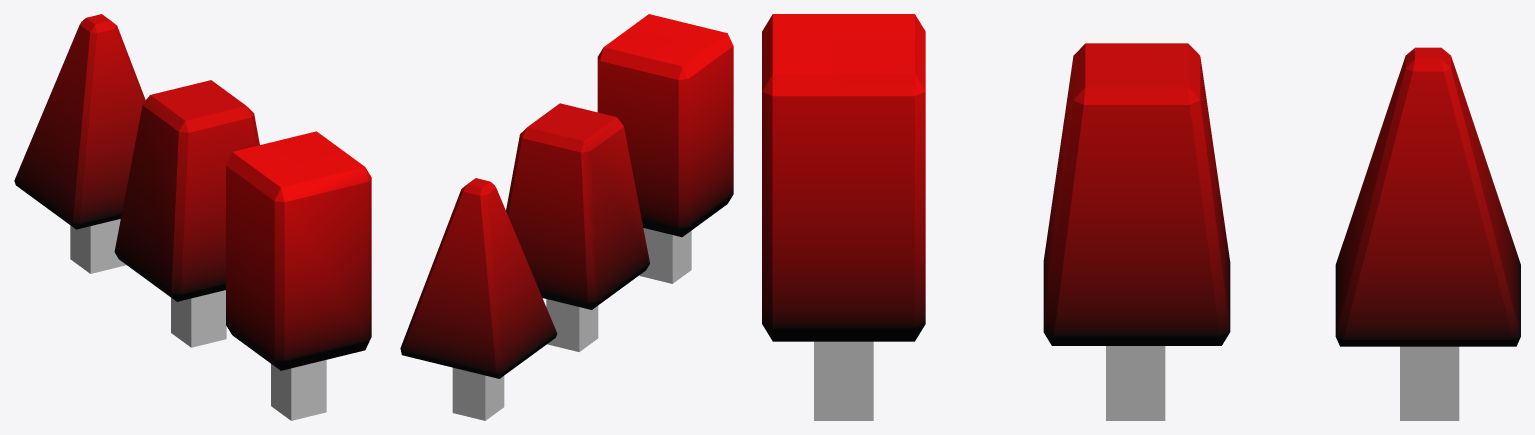
The model's file is TREES.fbx.
3 renders of one model, left to right at view 1: azimuth 30°, elevation 25°; view 2: azimuth 150°, elevation 25°; view 3: azimuth 270°, elevation 25°, orthographic. The views are drawn at different scales.
Parts seen in each view (by area): view 1: Cube.001, Cube.002, Cube.005, Cube, Cube.003, Cube.004; view 2: Cube.001, Cube.002, Cube.005, Cube.004, Cube, Cube.003; view 3: Cube.001, Cube.002, Cube.005, Cube, Cube.003, Cube.004.
Boxes of the visible parts, box(x1,y1,x2,y2) form: Cube.001: box(226, 131, 371, 370); Cube.002: box(114, 80, 259, 301); Cube.005: box(14, 14, 145, 229); Cube: box(271, 360, 326, 420); Cube.003: box(171, 290, 226, 347); Cube.004: box(70, 219, 125, 273); Cube.001: box(597, 14, 733, 237); Cube.002: box(506, 103, 649, 309); Cube.005: box(400, 178, 557, 378); Cube.004: box(452, 367, 504, 420); Cube: box(639, 228, 691, 283); Cube.003: box(546, 299, 598, 351); Cube.001: box(762, 14, 925, 341); Cube.002: box(1043, 43, 1230, 345); Cube.005: box(1335, 47, 1520, 346); Cube: box(814, 341, 873, 420); Cube.003: box(1106, 346, 1165, 420); Cube.004: box(1400, 346, 1459, 420).
Size of the model in its own units: 1.96 by 4.23 by 7.98.
